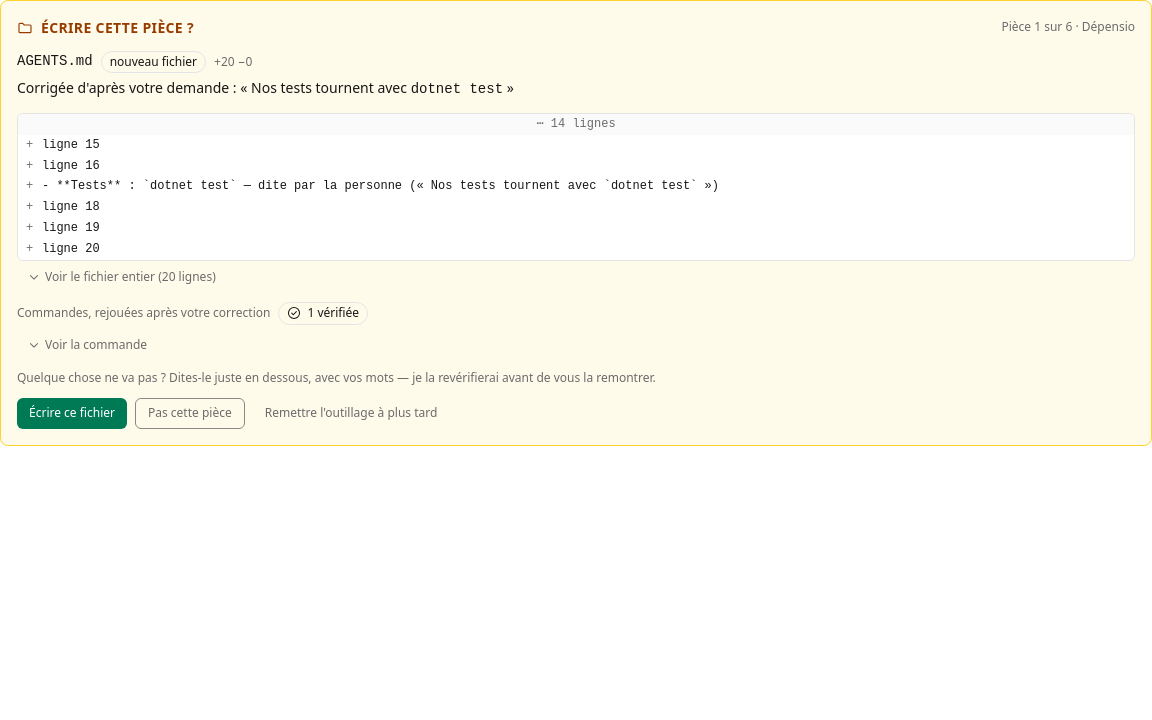
Test: la carte d'une pièce d'outillage › ② un fichier neuf corrigé s'ouvre sur le passage corrigé, pas sur son début
Expected: the text "`dotnet test` — dite par la personne" is shown, x1=42 y1=179 x2=719 y2=193
Expected: the text "ligne 15" is shown, x1=42 y1=138 x2=100 y2=152
Click the button "Voir le fichier entier (20 lignes)": click(121, 277) x1=17 y1=265 x2=226 y2=289
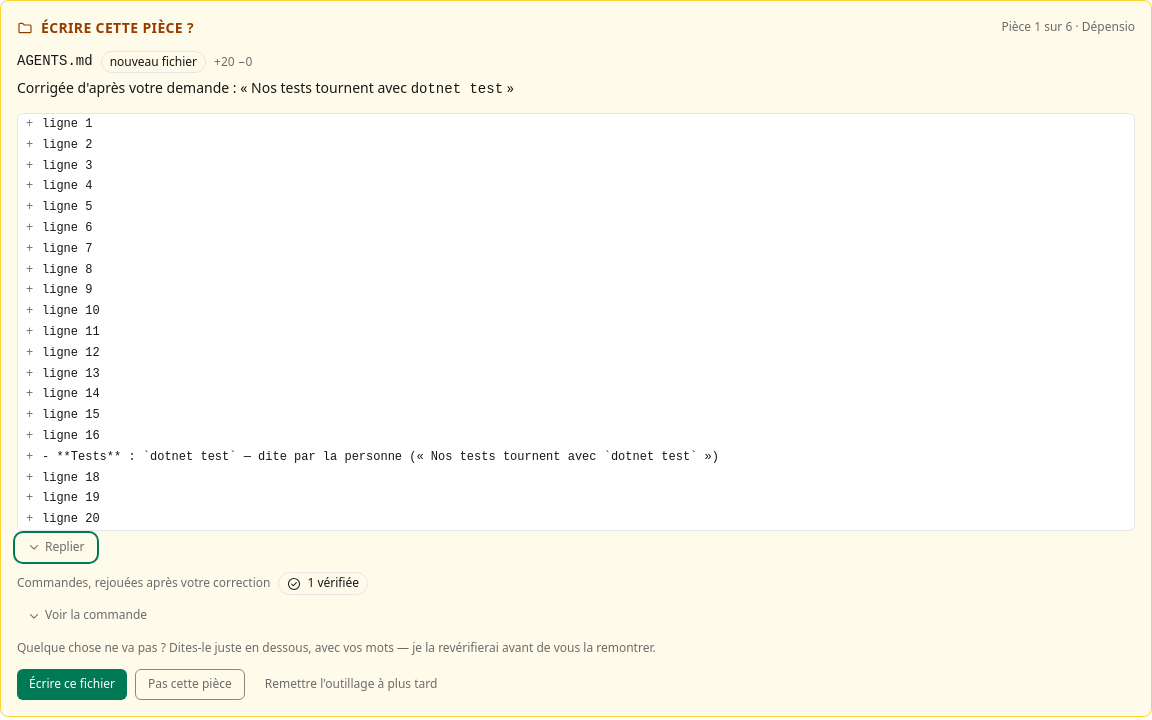
Expected: the text "ligne 1" is shown, x1=42 y1=117 x2=92 y2=131
Expected: the text "⋯" is gone
